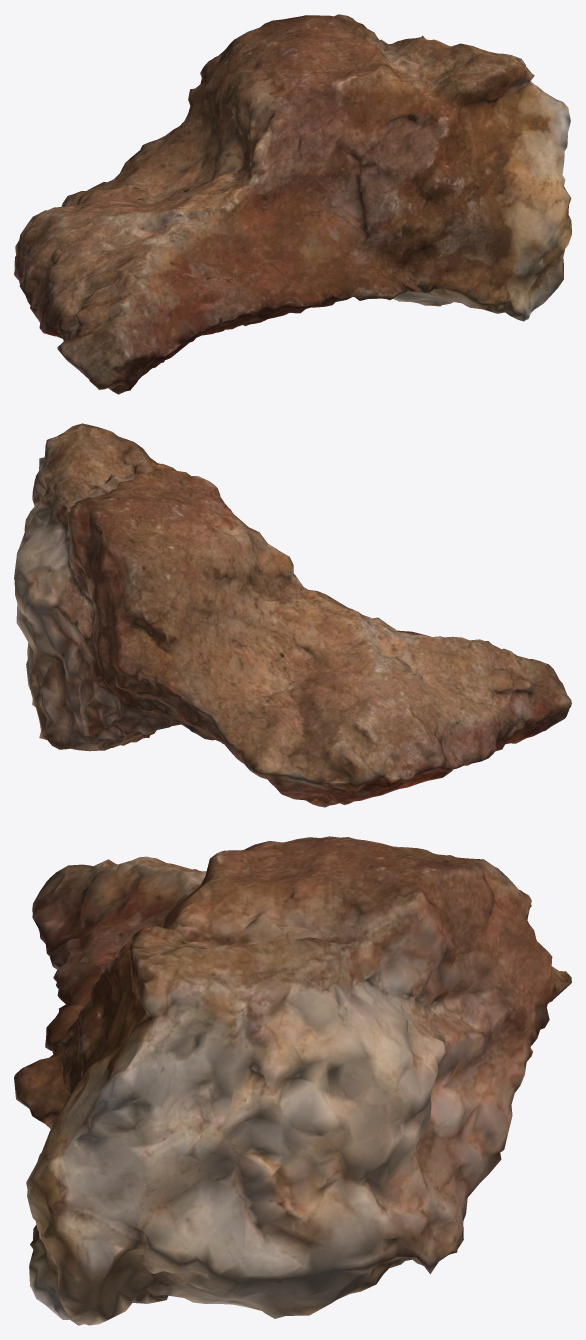
File: stone_01_LOD1.glb
The picture shows the model from 3 angles, top to bottom: view 1: azimuth 30°, elevation 25°; view 2: azimuth 150°, elevation 25°; view 3: azimuth 270°, elevation 25°; orthographic projection. The views are drawn at different scales.
Visible parts, largest first — view 1: stone_01_LOD1__lod0; view 2: stone_01_LOD1__lod0; view 3: stone_01_LOD1__lod0.
Boxes of the visible parts, x1,y1,x2,y2 form: stone_01_LOD1__lod0: [14, 14, 571, 394]; stone_01_LOD1__lod0: [14, 423, 571, 807]; stone_01_LOD1__lod0: [14, 836, 571, 1325].
Size of what is drawn, in the model's own units: 0.1468 by 0.0717 by 0.0891.
1 material, 1 textured.
